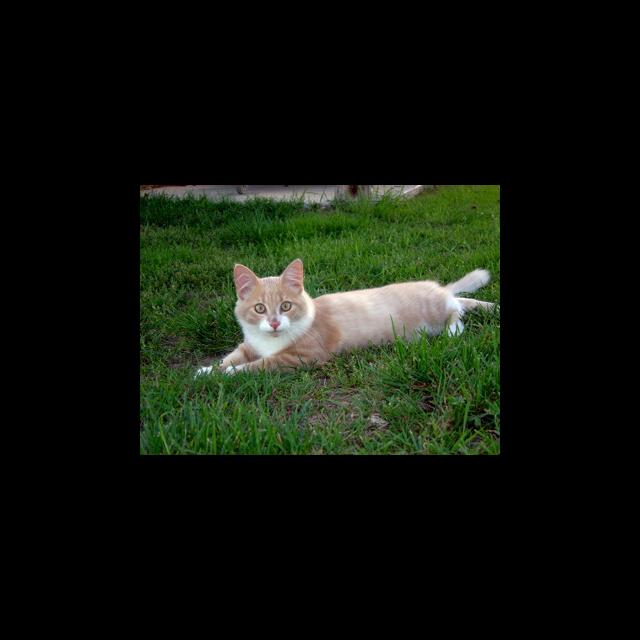animals: (237, 259, 301, 328)
